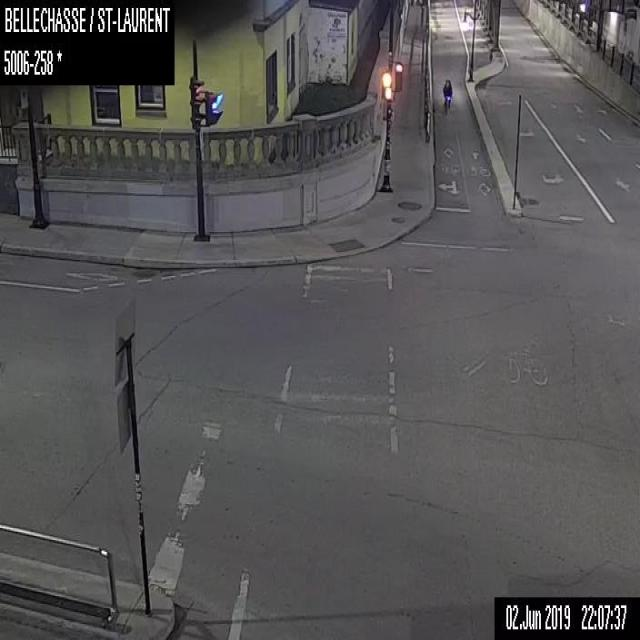cyclist: (442, 78, 452, 114)
